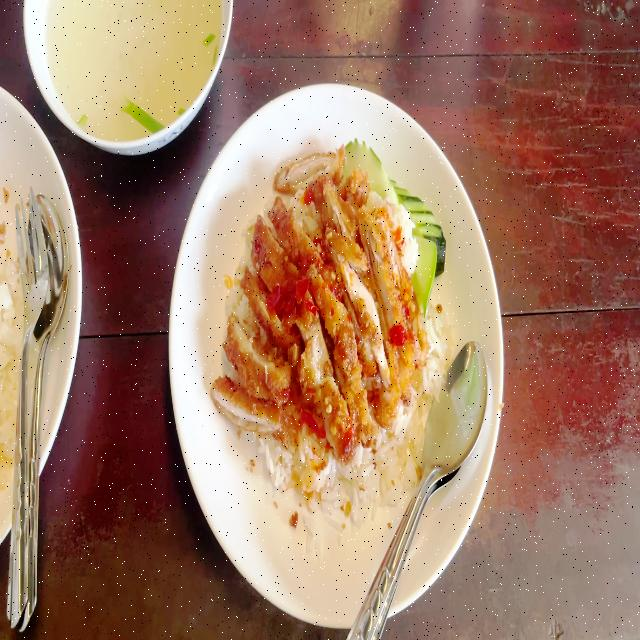chicken_rice: (222, 140, 452, 541)
cucumber: (384, 172, 448, 314), (342, 137, 399, 218)
fried_chicken: (212, 143, 426, 457)
